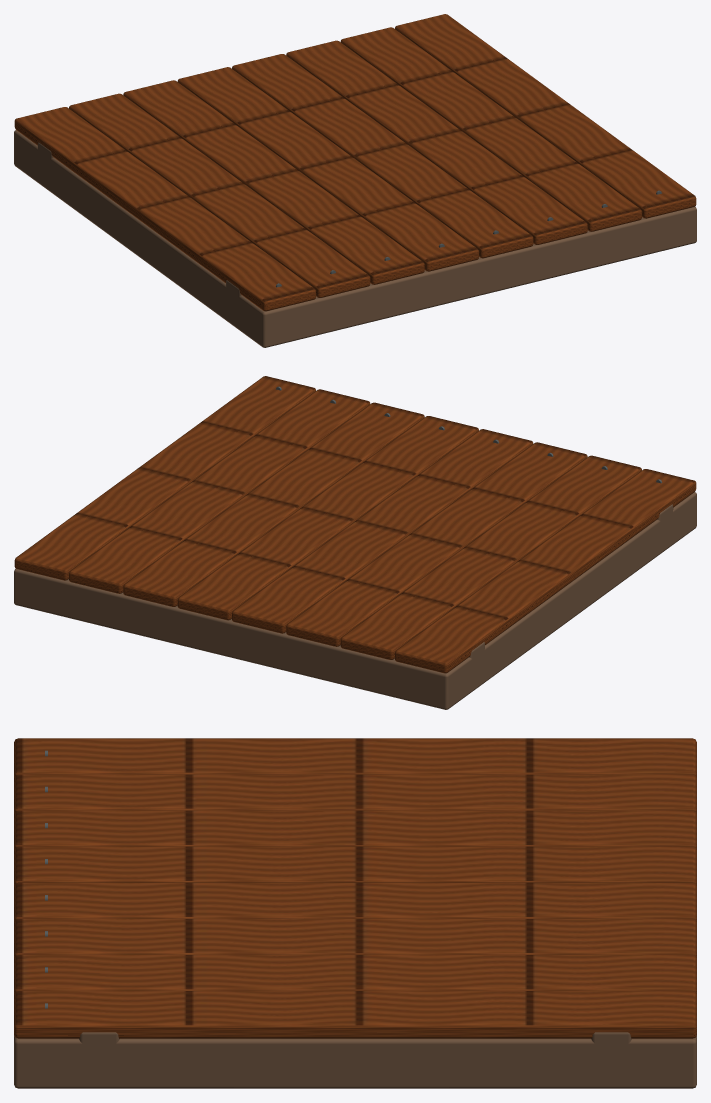
Rendered from adventurers-tavern-and-guild-hall-mezzanine-floor-tile-461158b5__24673.glb.
The picture shows the model from 3 angles, top to bottom: view 1: azimuth 30°, elevation 25°; view 2: azimuth 150°, elevation 25°; view 3: azimuth 270°, elevation 25°; orthographic projection. The views are drawn at different scales.
Parts seen in each view (by area): view 1: mezzanine-floor-tile; view 2: mezzanine-floor-tile; view 3: mezzanine-floor-tile.
Boxes of the visible parts, x1,y1,x2,y2 form: mezzanine-floor-tile: (14, 14, 696, 347); mezzanine-floor-tile: (14, 376, 696, 709); mezzanine-floor-tile: (14, 738, 696, 1088).
Size of the model in its own units: 2 by 0.222 by 2.
Materials: 3 (1 with a texture image).
